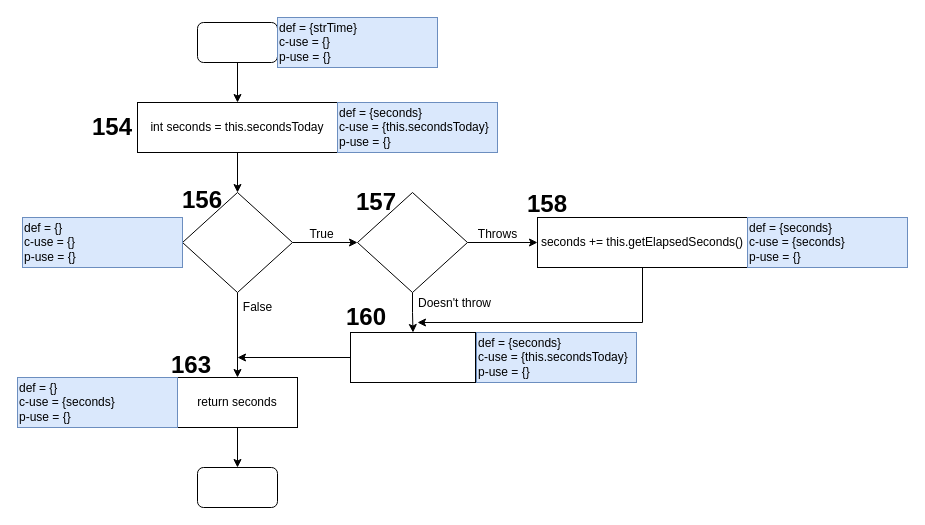
This 925x525 diagram has some shape labels left out. Here are the shapes that lost their labels. From the top down, the box of each, then its label:
(196, 22, 278, 62): Start
(182, 192, 292, 292): this.isRunning()
(356, 192, 468, 292): Line 157.
(350, 332, 476, 382): e.printStackTrace()
(196, 466, 278, 508): End
